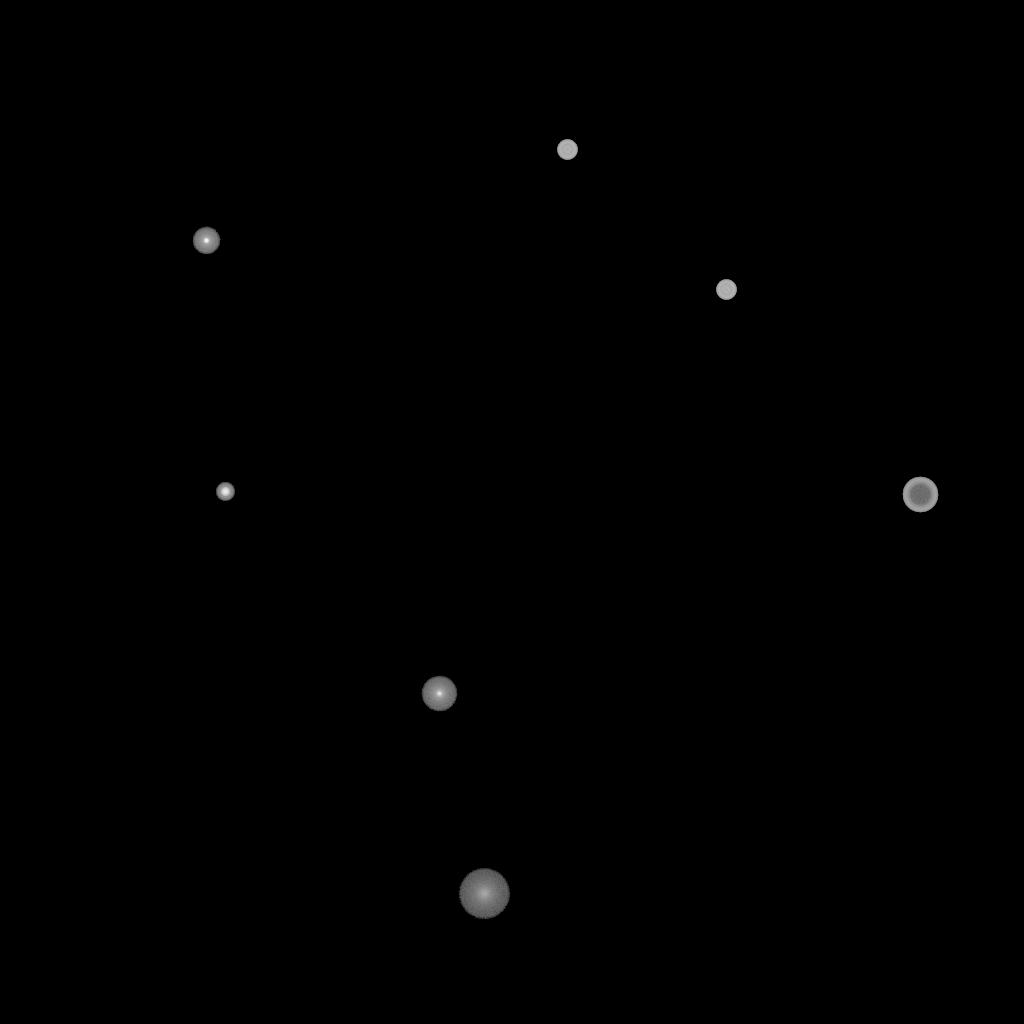depth:-10: (192, 227, 220, 255)
depth:-20: (216, 483, 234, 501)
depth:-40: (557, 140, 577, 160), (716, 280, 736, 300)
depth:-60: (902, 477, 938, 513)
depth:0: (421, 676, 457, 712)
depth:20: (458, 869, 510, 919)
